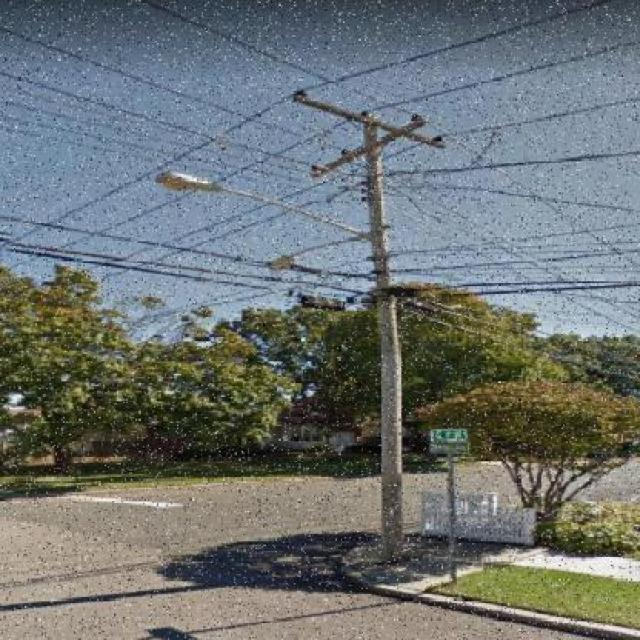pole: (94, 50, 508, 579)
